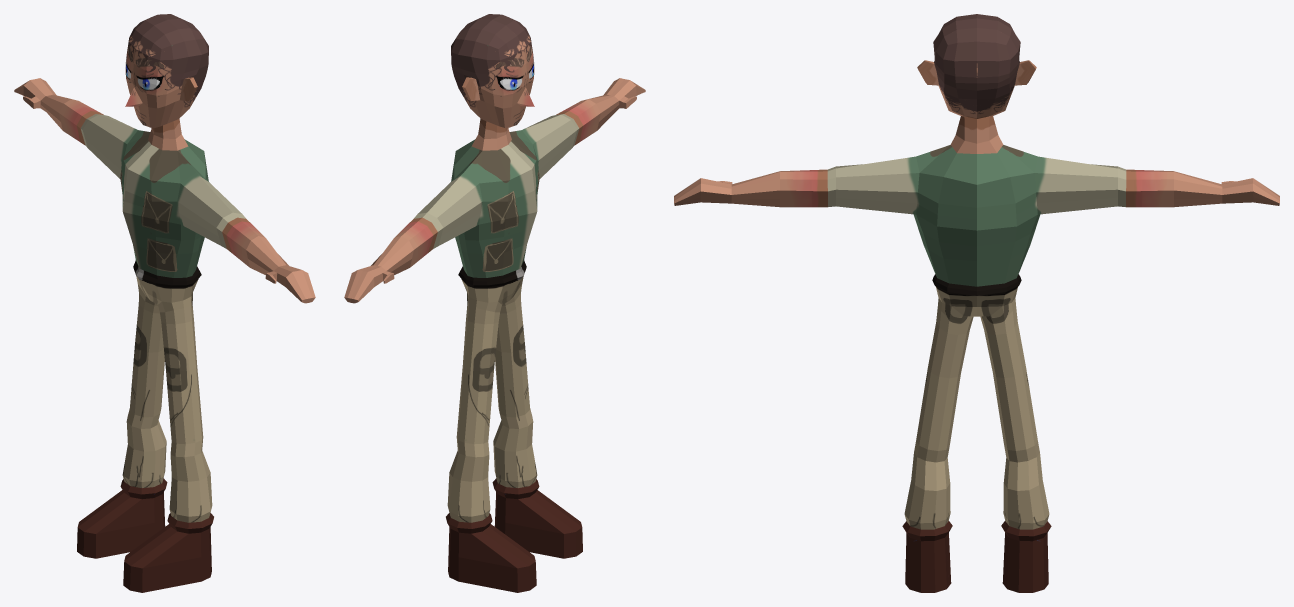
Rendered from Lacaio3.fbx.
The picture shows the model from 3 angles, left to right: view 1: azimuth 30°, elevation 25°; view 2: azimuth 150°, elevation 25°; view 3: azimuth 270°, elevation 25°; orthographic projection. The views are drawn at different scales.
Parts seen in each view (by area): view 1: Cylinder; view 2: Cylinder; view 3: Cylinder.
Boxes of the visible parts, x1,y1,x2,y2 form: Cylinder: (14,14,315,592); Cylinder: (344,14,645,592); Cylinder: (674,14,1279,592).
Bounding box in the file's own units: 90.39 × 441 × 429.
Materials: 1 (1 with a texture image).
